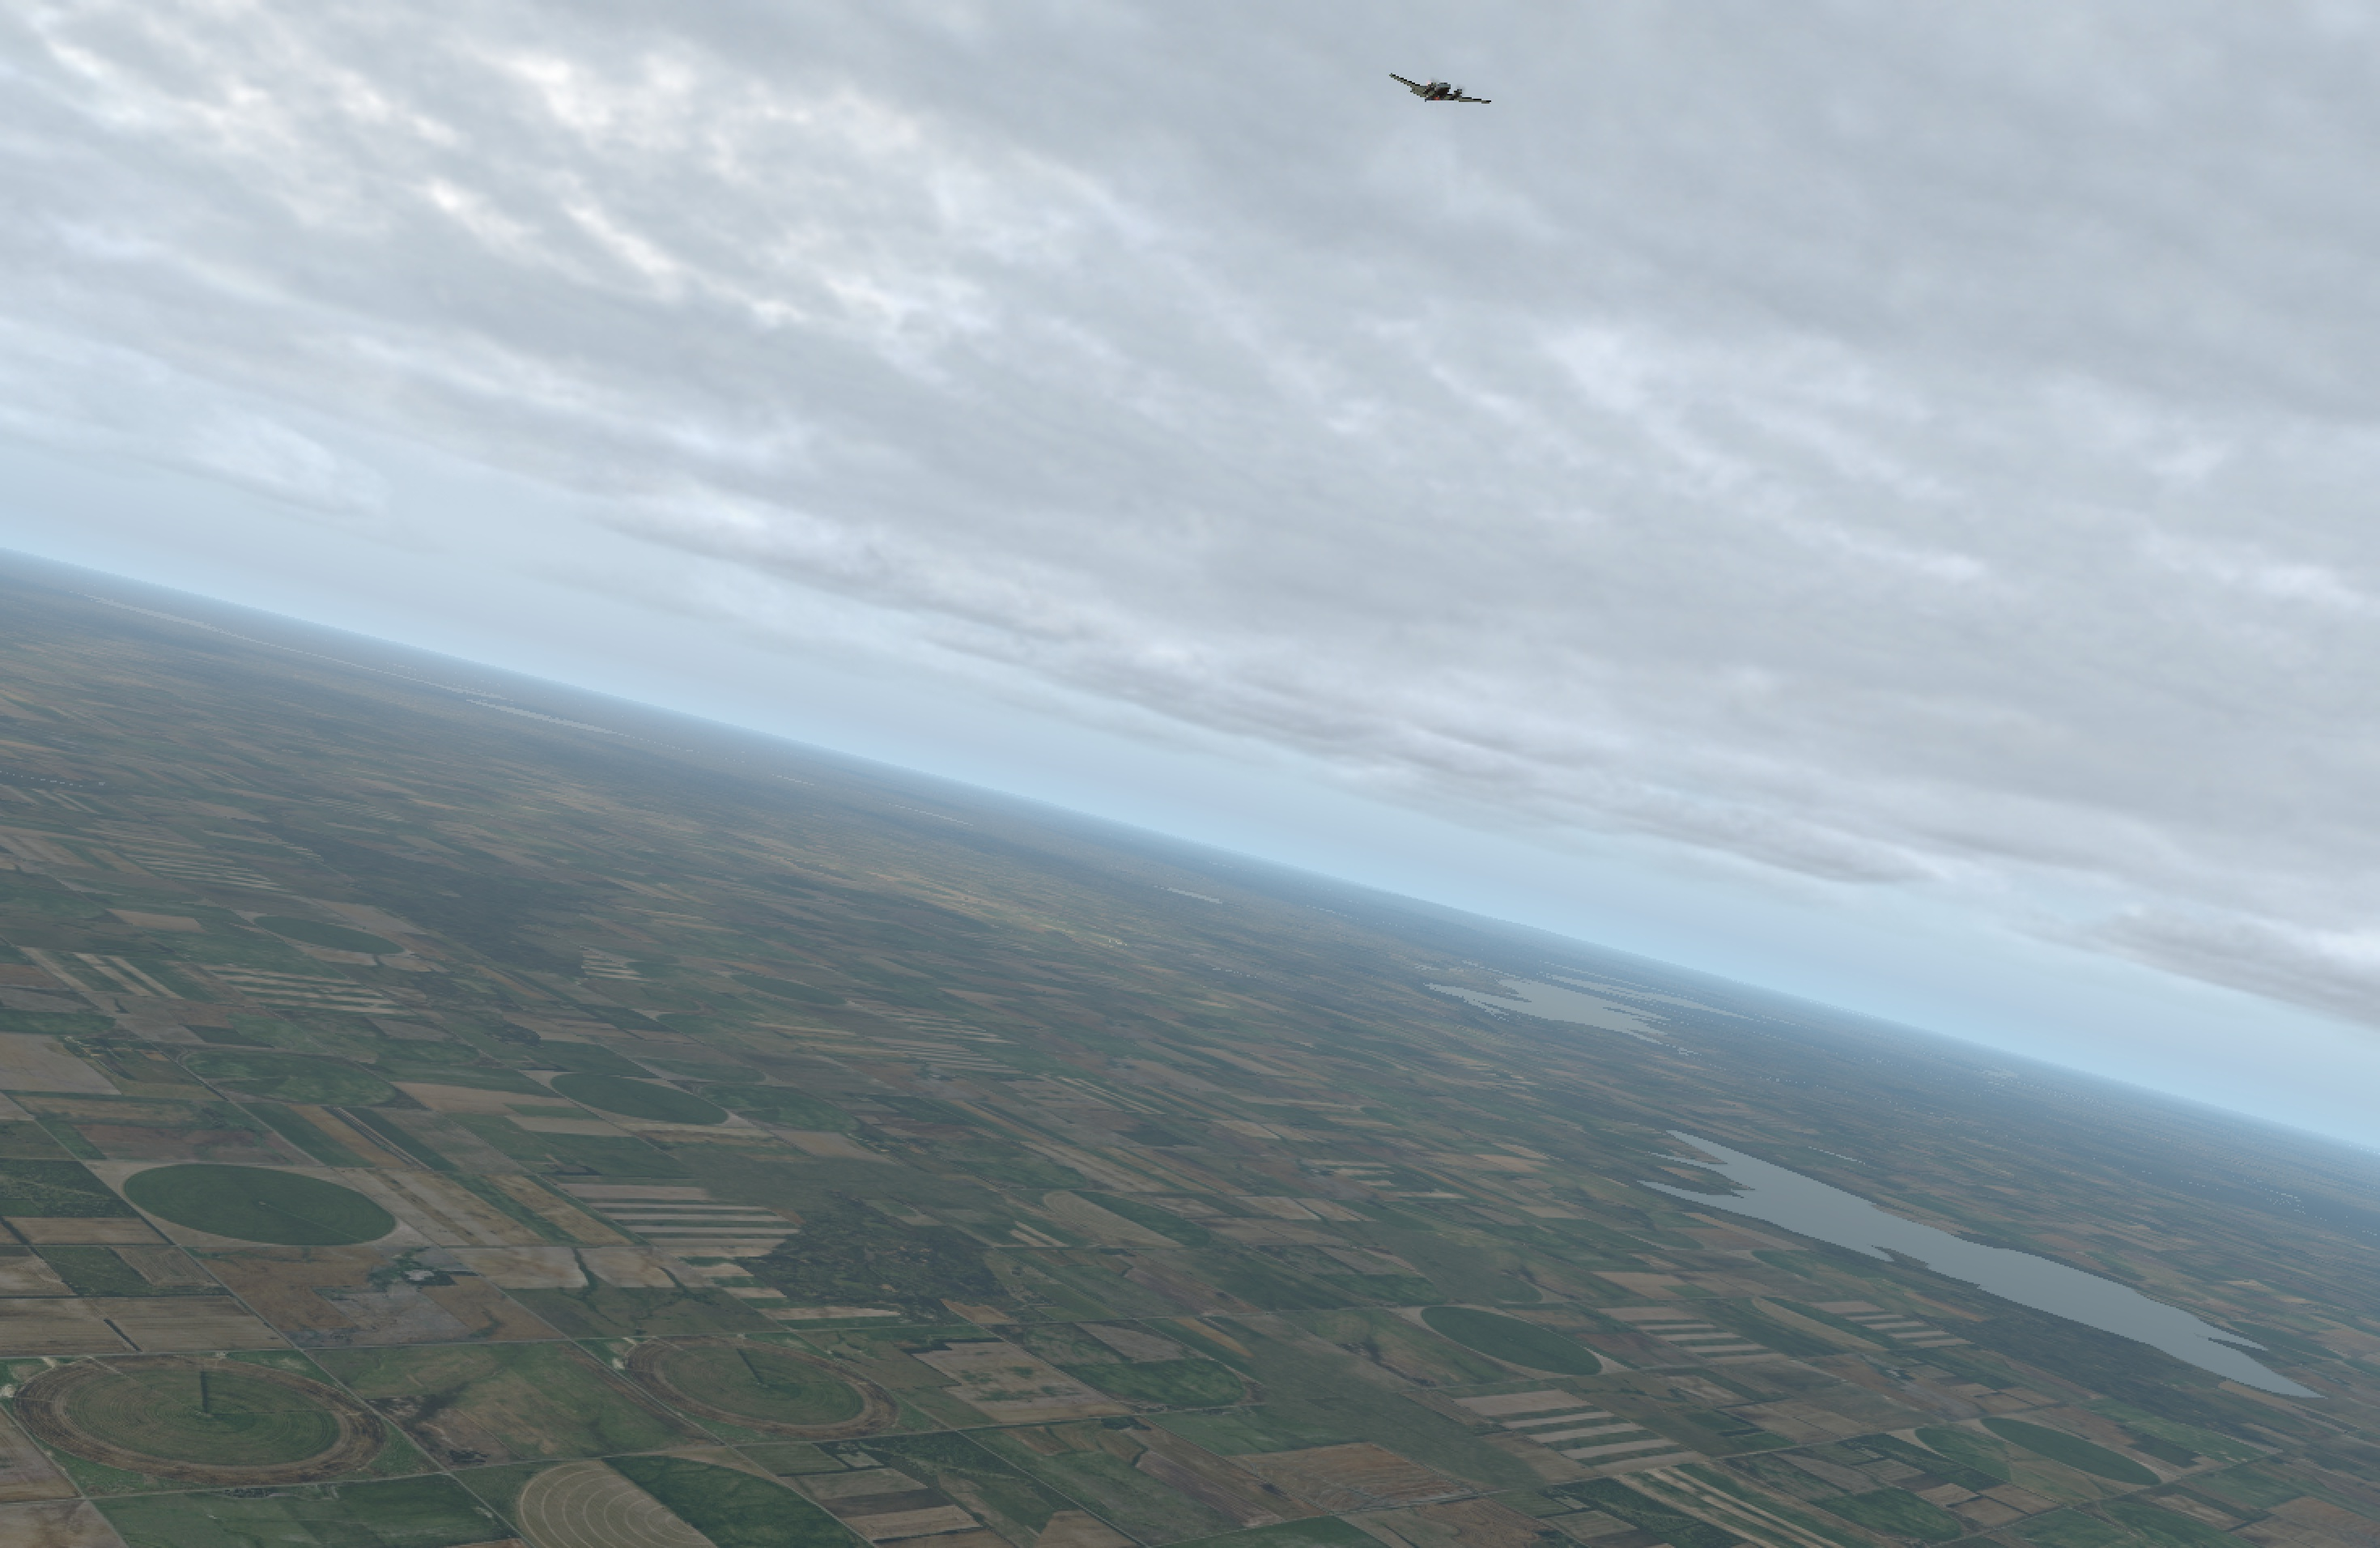aircraft: (1388, 75, 1492, 115)
